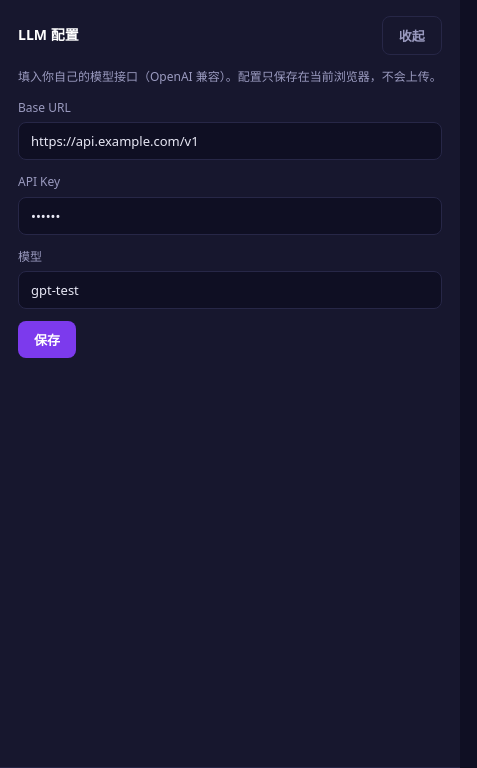
Scenario: SettingsPanel › trims values before saving and shows the saved indicator
Replace the text in the field labelled "Base URL" with "  https://new.example.com  " at (230, 141), box [18,122,442,160]
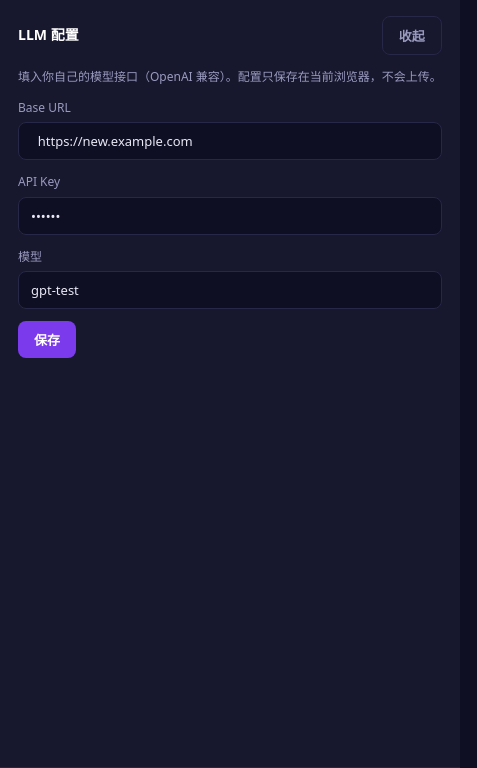
Click the button "保存" at (47, 339), box [18,321,76,358]
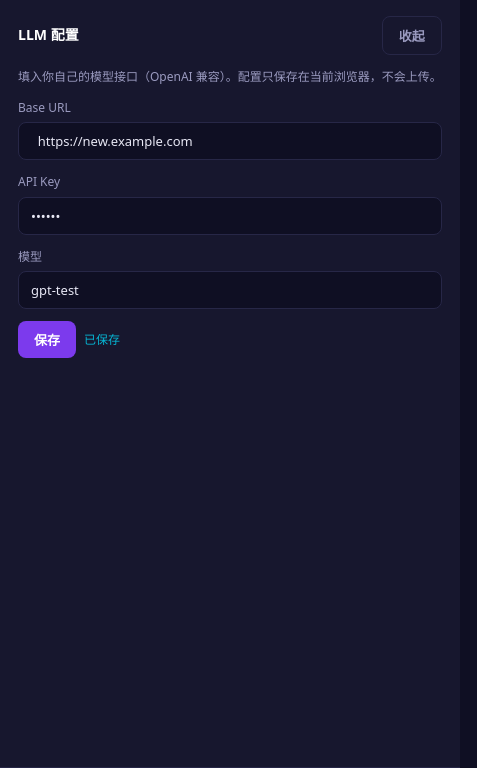
Result: the text "已保存" is shown at [84,330,120,349]
